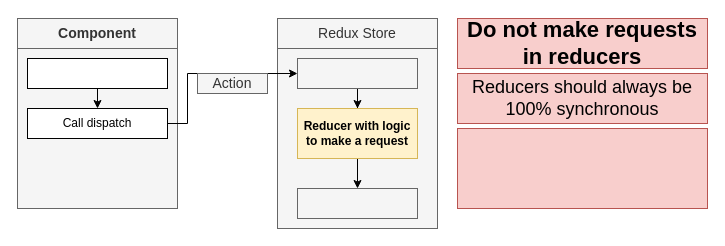
This 725x246 diagram has some shape labels left out. Each missing label, with the box of its shape:
Dispatch: (296, 58, 418, 88)
Reducers should only operate on their arguments - no outside variables!: (456, 128, 708, 208)
State: (296, 188, 418, 218)
User did something..: (26, 58, 168, 88)
